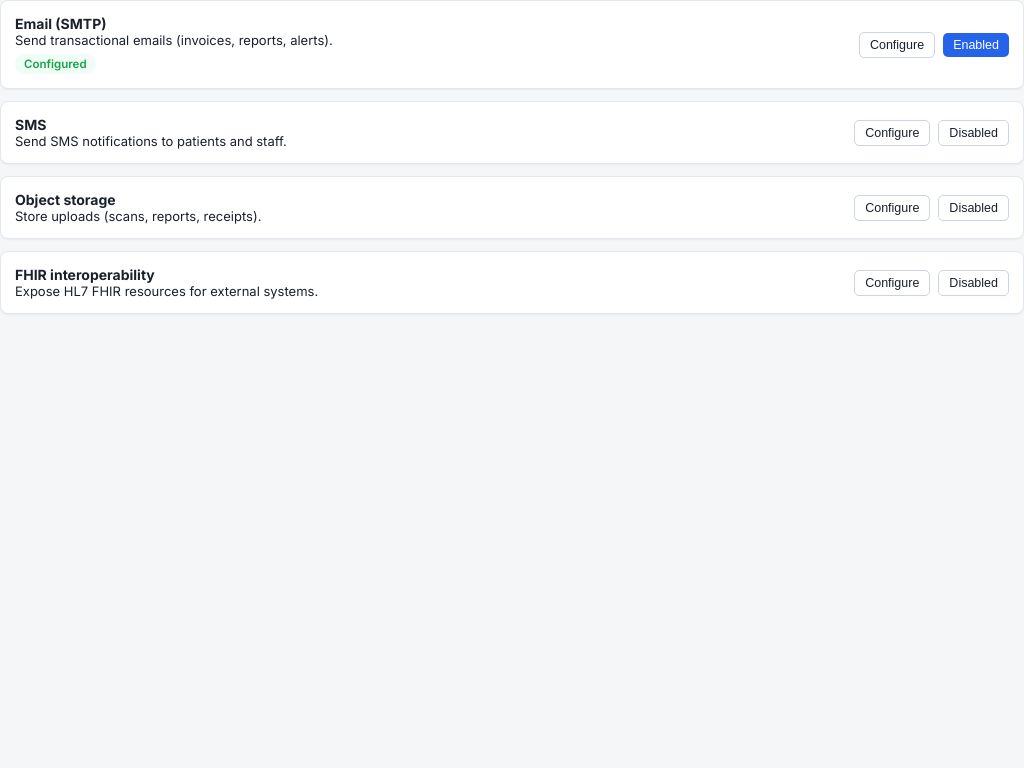
Test: IntegrationSettings › opens the config form for a provider
The width and height of the screenshot is (1024, 768).
Expected: the text "Email (SMTP)" is shown, x1=15 y1=15 x2=106 y2=32
Click the 1st button "Configure": [897, 44] box x1=859 y1=32 x2=935 y2=58
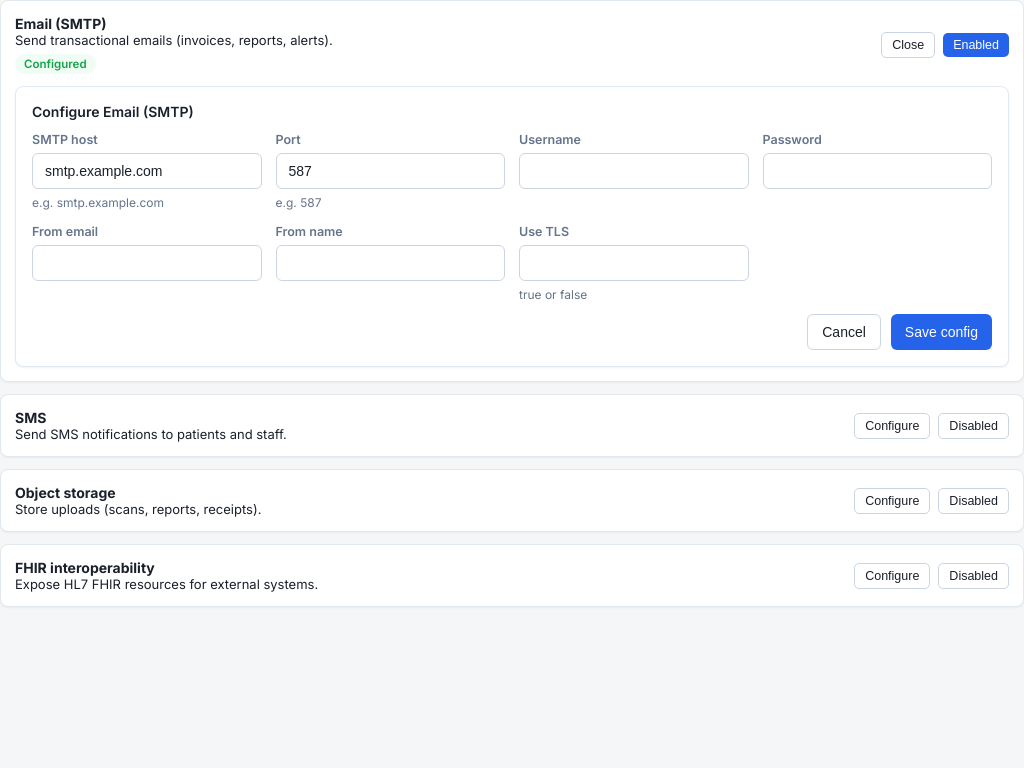
Expected: the field labelled "SMTP host" is shown, x1=32 y1=153 x2=262 y2=189
Expected: the field labelled "Port" is shown, x1=276 y1=153 x2=505 y2=189
